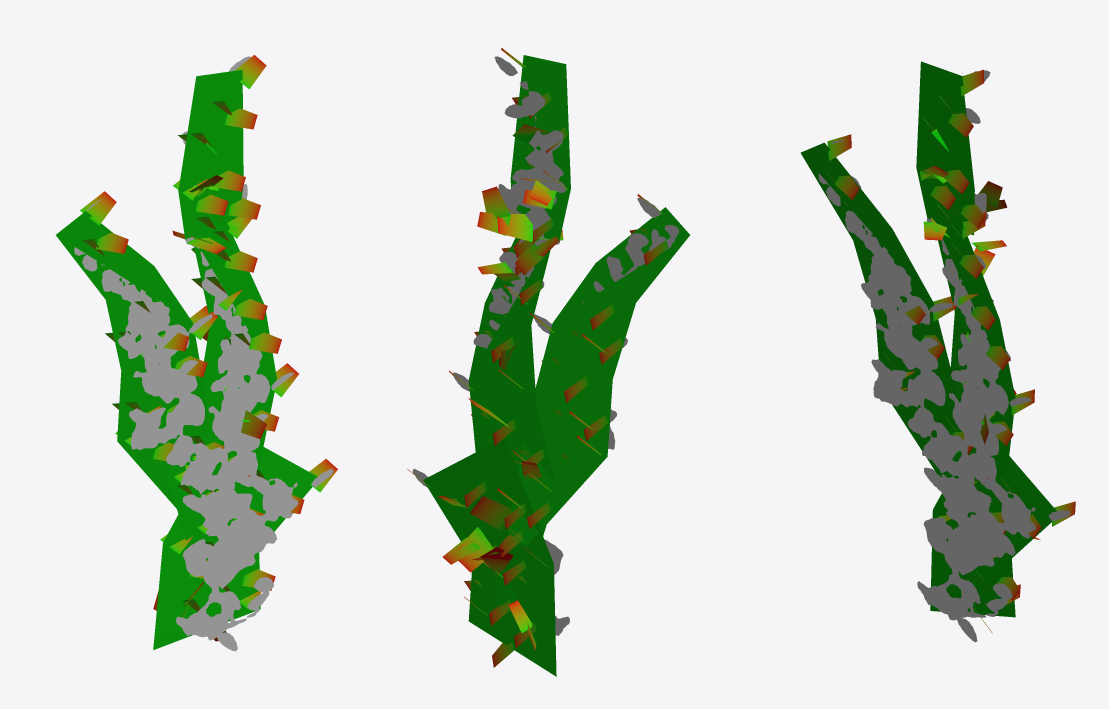
The model's file is Ivy_A4.fbx.
3 renders of one model, left to right at view 1: azimuth 30°, elevation 25°; view 2: azimuth 150°, elevation 25°; view 3: azimuth 330°, elevation 25°, orthographic. The views are drawn at different scales.
Parts seen in each view (by area): view 1: Ivy_A4_LOD0, Ivy_A4_BillBoard; view 2: Ivy_A4_LOD0, Ivy_A4_BillBoard; view 3: Ivy_A4_LOD0, Ivy_A4_BillBoard.
Part boxes in pixels (x1,y1,x2,y2): Ivy_A4_LOD0: (56, 55, 337, 649); Ivy_A4_BillBoard: (74, 56, 333, 651); Ivy_A4_LOD0: (407, 48, 689, 676); Ivy_A4_BillBoard: (412, 56, 678, 635); Ivy_A4_LOD0: (800, 61, 1075, 633); Ivy_A4_BillBoard: (818, 70, 1069, 642).
Size of what is drawn, in the model's own units: 36.56 by 67.53 by 8.42.
